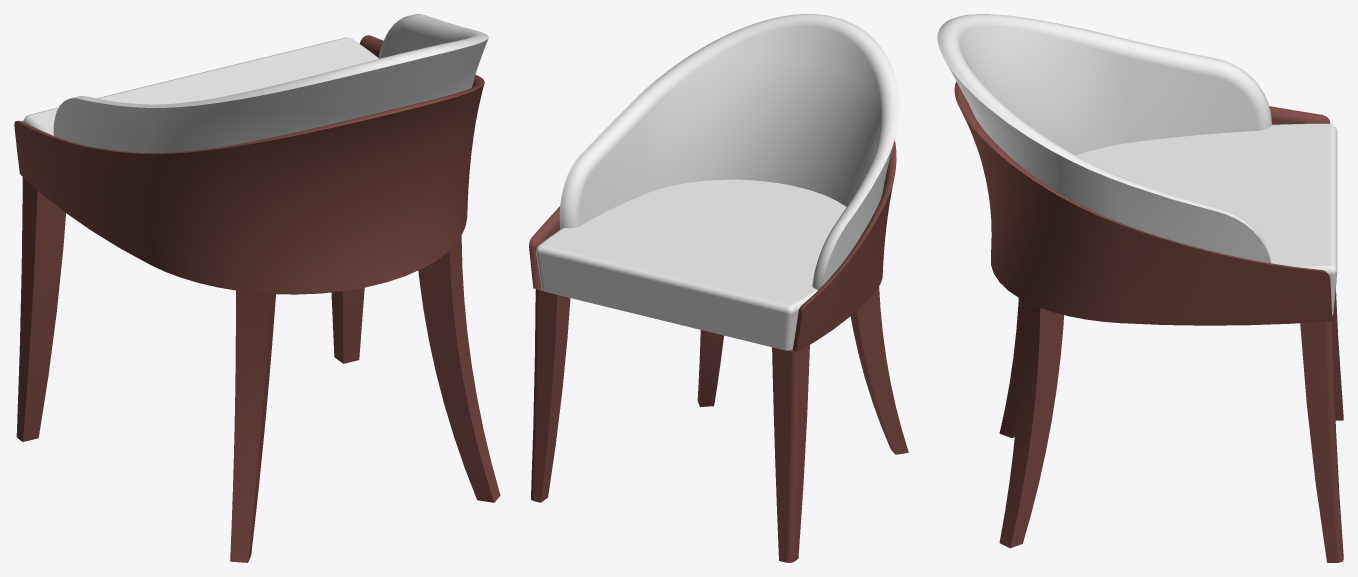
File: chair.glb
3 renders of one model, left to right at view 1: azimuth 30°, elevation 25°; view 2: azimuth 150°, elevation 25°; view 3: azimuth 270°, elevation 25°, orthographic. The views are drawn at different scales.
Parts seen in each view (by area): view 1: Solid1; view 2: Solid1; view 3: Solid1.
Boxes of the visible parts, <box> form: Solid1: <box>14,14,500,562</box>; Solid1: <box>529,14,908,562</box>; Solid1: <box>937,14,1343,562</box>.
Bounding box in the file's own units: 0.5198 × 0.6941 × 0.5637.
